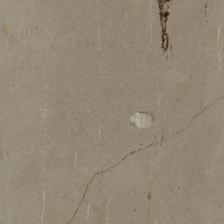Crack: (67, 23, 156, 133), (0, 15, 144, 42), (12, 97, 35, 150)
